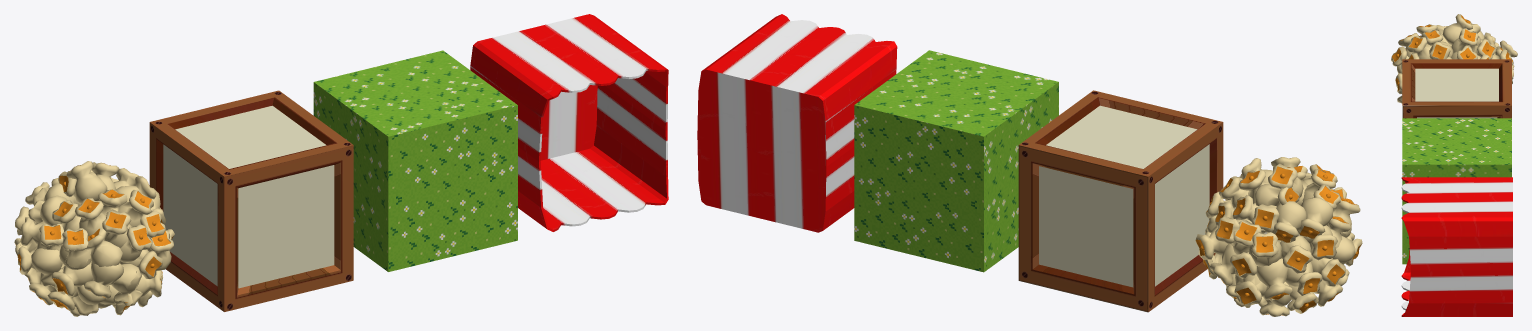
Rendered from _PoppiCorny_Item.fbx.
3 views of the same model, side by side, from view 1: azimuth 30°, elevation 25°; view 2: azimuth 150°, elevation 25°; view 3: azimuth 270°, elevation 25° (orthographic). The views are drawn at different scales.
Parts seen in each view (by area): view 1: Cube.015, Cube.004, Cube.009, Bong ngo; view 2: Cube.015, Cube.004, Cube.009, Bong ngo; view 3: Cube.009, Cube.004, Cube.015, Bong ngo.
Part boxes in pixels (x1,y1,x2,y2): Cube.015: (149, 90, 353, 311); Cube.004: (313, 50, 517, 271); Cube.009: (470, 14, 668, 231); Bong ngo: (14, 161, 174, 316); Cube.015: (1018, 90, 1223, 312); Cube.004: (854, 50, 1058, 272); Cube.009: (697, 14, 897, 232); Bong ngo: (1195, 157, 1362, 316); Cube.009: (1401, 177, 1512, 316); Cube.004: (1402, 118, 1511, 264); Cube.015: (1402, 59, 1511, 118); Bong ngo: (1391, 14, 1517, 103).
Bounding box in the file's own units: 9.46 × 2.22 × 2.31.
8 materials, 4 textured.
